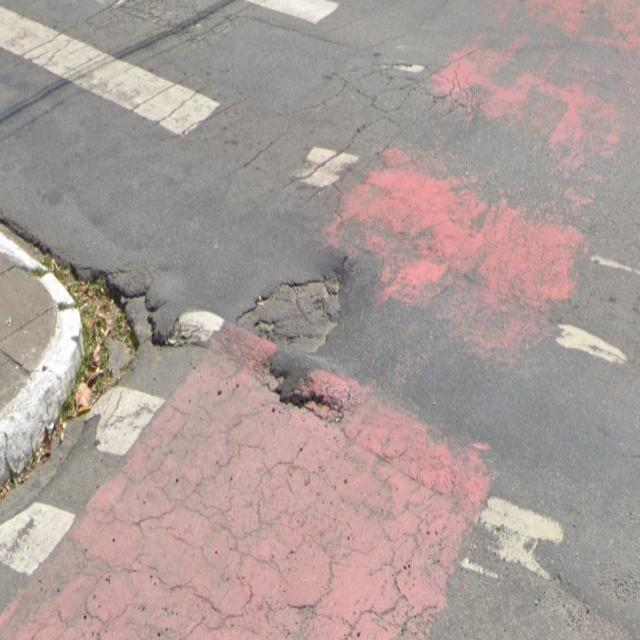Buraco: (230, 266, 364, 434)
